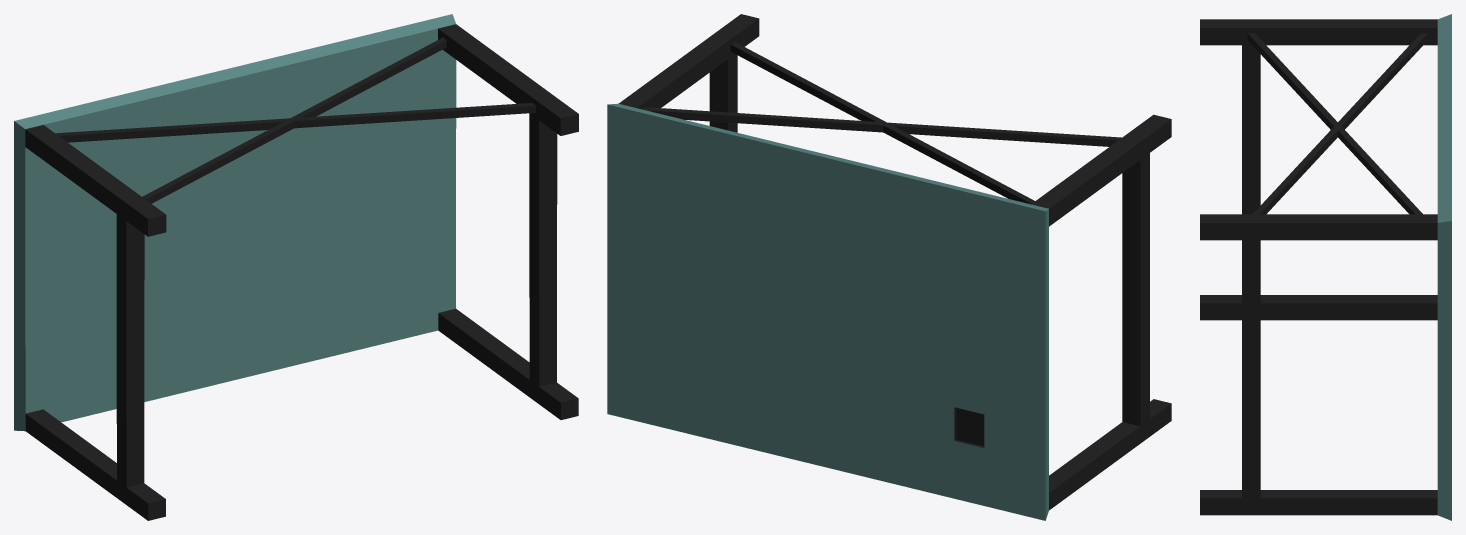
File: officeTable.fbx
The picture shows the model from 3 angles, left to right: view 1: azimuth 30°, elevation 25°; view 2: azimuth 150°, elevation 25°; view 3: azimuth 270°, elevation 25°; orthographic projection. The views are drawn at different scales.
Parts seen in each view (by area): view 1: officeTable.006; view 2: officeTable.006; view 3: officeTable.006.
Boxes of the visible parts, x1,y1,x2,y2 form: officeTable.006: (14,14,578,520); officeTable.006: (607,14,1171,520); officeTable.006: (1200,14,1451,520).
Size of the model in its own units: 0.5019 by 0.3388 by 0.2578.
